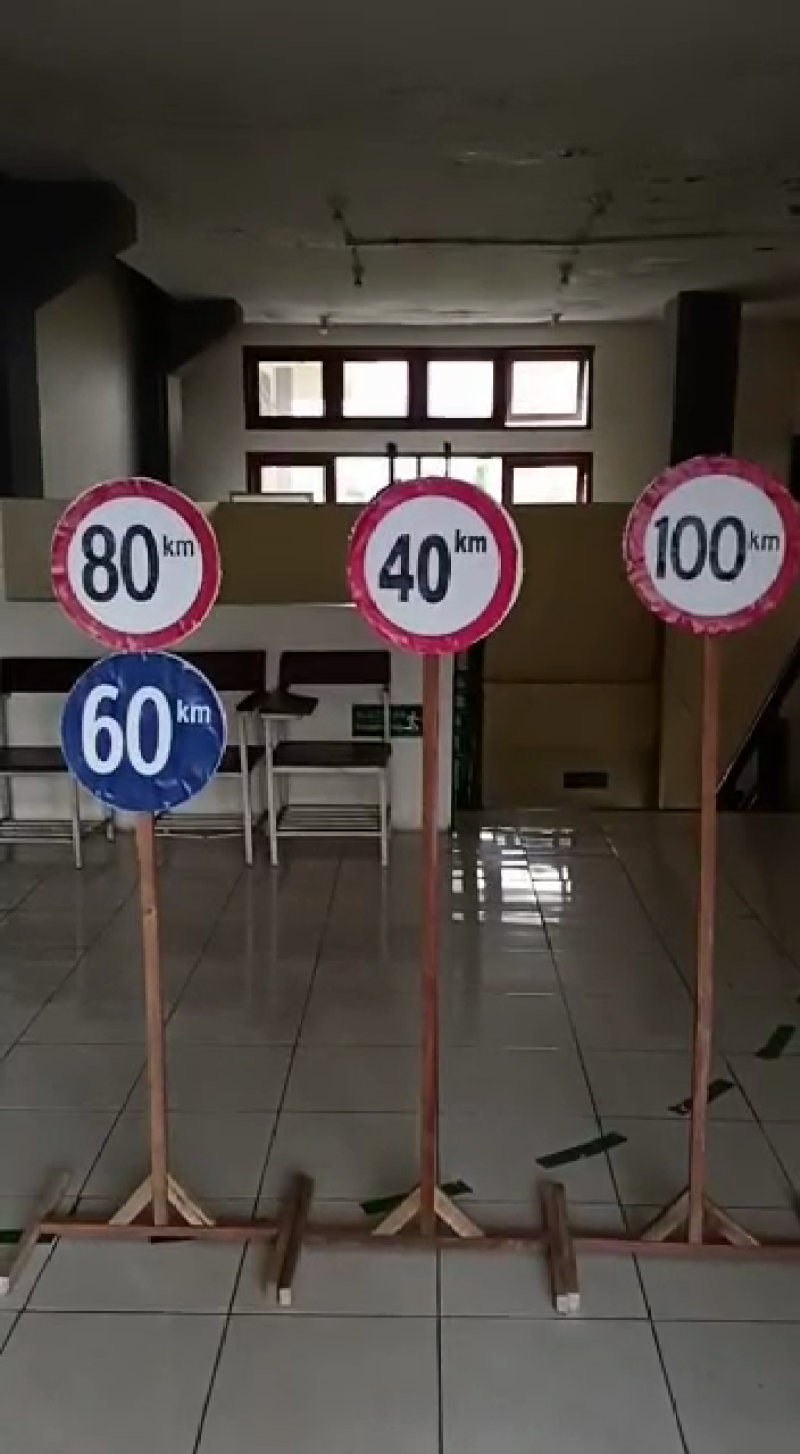batas maksimal 100kmperjam: (613, 448, 800, 633)
batas maksimal 40kmperjam: (333, 459, 526, 664)
batas maksimal 80kmperjam minimal 60kmperjam: (44, 464, 233, 844)
